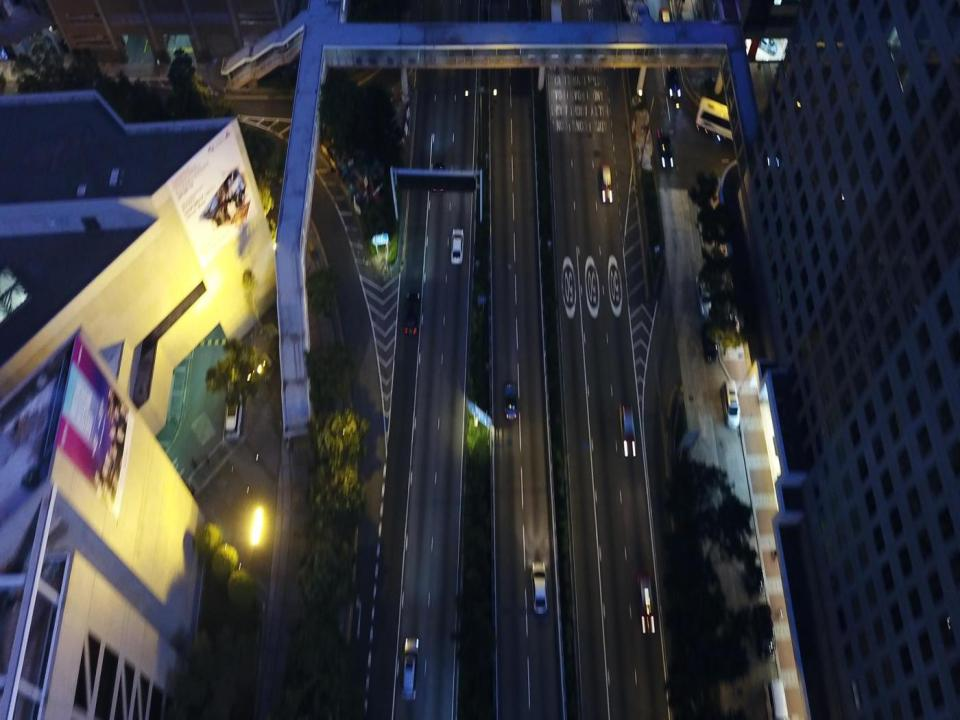bus: (697, 98, 767, 142)
car: (637, 583, 656, 634), (531, 561, 549, 614), (618, 406, 636, 458), (655, 128, 675, 172), (404, 293, 422, 337), (746, 557, 766, 594), (502, 381, 519, 420), (450, 227, 467, 265), (664, 59, 680, 99), (598, 164, 613, 201), (657, 6, 674, 38)
van: (401, 636, 420, 702), (755, 601, 776, 659), (762, 680, 788, 719), (224, 395, 243, 440), (724, 379, 740, 429)
